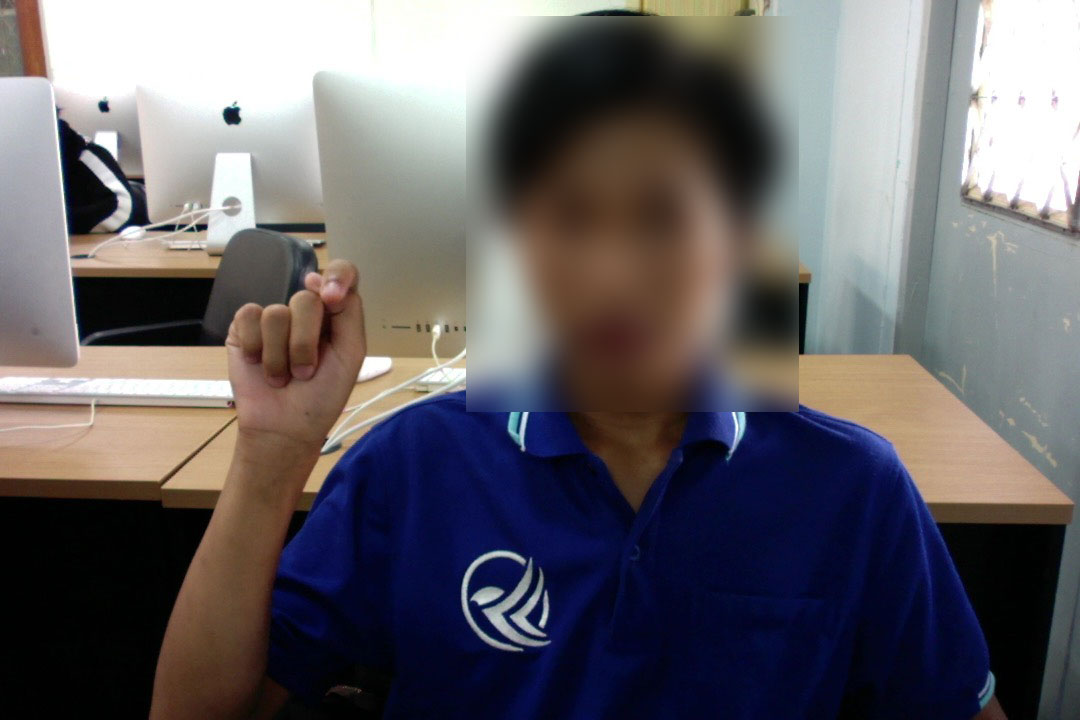tor: (220, 255, 368, 453)
